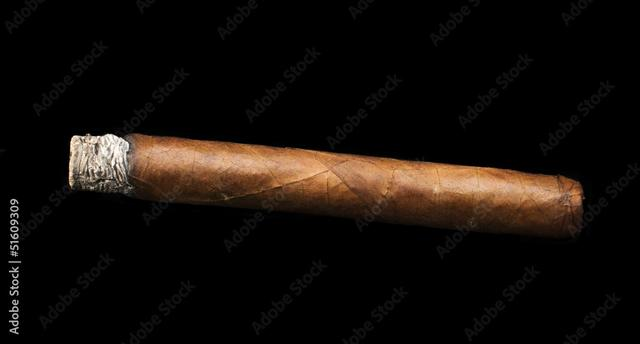Cigar: (67, 130, 586, 240)
